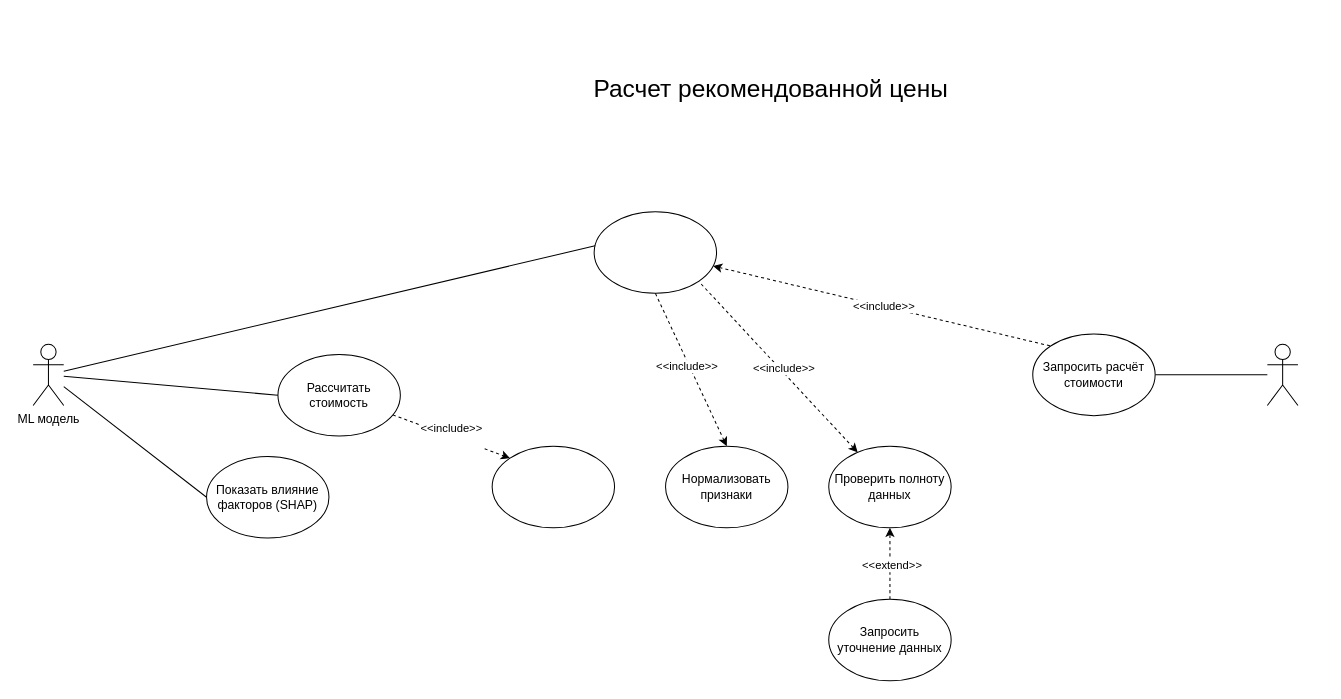
The diagram is 1341 pixels wide and 699 high, and some of its shapes have lost their labels. The box of each missing label's shape, as (x1, y1, x2, y2) in pixels:
Арендодатель: (1266, 343, 1298, 405)
Собрать признаки всех анализов: (593, 211, 717, 293)
Сформировать PDF-отчёт: (491, 445, 615, 528)
